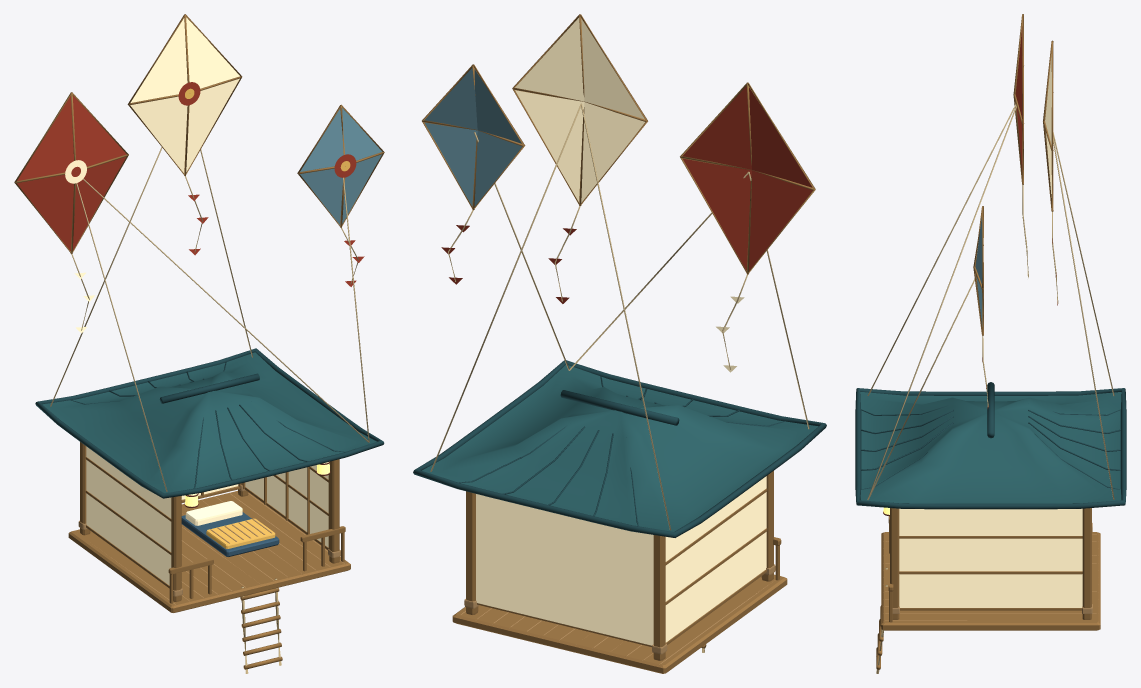
The model's file is kite-house-v1.glb.
3 renders of one model, left to right at view 1: azimuth 30°, elevation 25°; view 2: azimuth 150°, elevation 25°; view 3: azimuth 270°, elevation 25°, orthographic. The views are drawn at different scales.
Parts seen in each view (by area): view 1: KH_Occluder_roof, KH_Details_wood, KH_Occluder_paper, KH_Details_paper, KH_Details_red, KH_Occluder_wood, KH_Occluder_roofedge, KH_Details_blue, KH_Details_rope, KH_Details_gold, KH_Details_indigo, KH_Details_edge; view 2: KH_Occluder_roof, KH_Occluder_paper, KH_Details_red, KH_Details_wood, KH_Details_paper, KH_Occluder_roofedge, KH_Details_blue, KH_Occluder_wood, KH_Details_rope; view 3: KH_Occluder_roof, KH_Occluder_paper, KH_Details_wood, KH_Occluder_roofedge, KH_Occluder_wood, KH_Details_rope, KH_Details_red, KH_Details_paper, KH_Details_blue.
Boxes of the visible parts, x1,y1,x2,y2 form: KH_Occluder_roof: [42, 352, 376, 493]; KH_Details_wood: [14, 14, 384, 669]; KH_Occluder_paper: [86, 446, 328, 585]; KH_Details_paper: [65, 17, 242, 525]; KH_Details_red: [17, 82, 364, 286]; KH_Occluder_wood: [80, 442, 345, 603]; KH_Occluder_roofedge: [35, 348, 384, 498]; KH_Details_blue: [300, 108, 382, 224]; KH_Details_rope: [50, 147, 369, 673]; KH_Details_gold: [185, 88, 350, 548]; KH_Details_indigo: [181, 512, 279, 556]; KH_Details_edge: [106, 493, 345, 605]; KH_Occluder_roof: [422, 365, 818, 531]; KH_Occluder_paper: [476, 476, 766, 645]; KH_Details_red: [441, 86, 812, 303]; KH_Details_wood: [422, 14, 815, 673]; KH_Details_paper: [515, 17, 744, 372]; KH_Occluder_roofedge: [413, 360, 826, 537]; KH_Details_blue: [424, 68, 522, 206]; KH_Occluder_wood: [466, 471, 781, 660]; KH_Details_rope: [430, 103, 809, 652]; KH_Occluder_roof: [860, 392, 1121, 503]; KH_Occluder_paper: [899, 508, 1082, 607]; KH_Details_wood: [876, 14, 1100, 669]; KH_Occluder_roofedge: [855, 382, 1126, 509]; KH_Occluder_wood: [888, 508, 1091, 622]; KH_Details_rope: [867, 104, 1114, 673]; KH_Details_red: [982, 26, 1057, 408]; KH_Details_paper: [1022, 54, 1051, 278]; KH_Details_blue: [975, 217, 982, 326].
Bounding box in the file's own units: 8 × 12.91 × 5.07.
